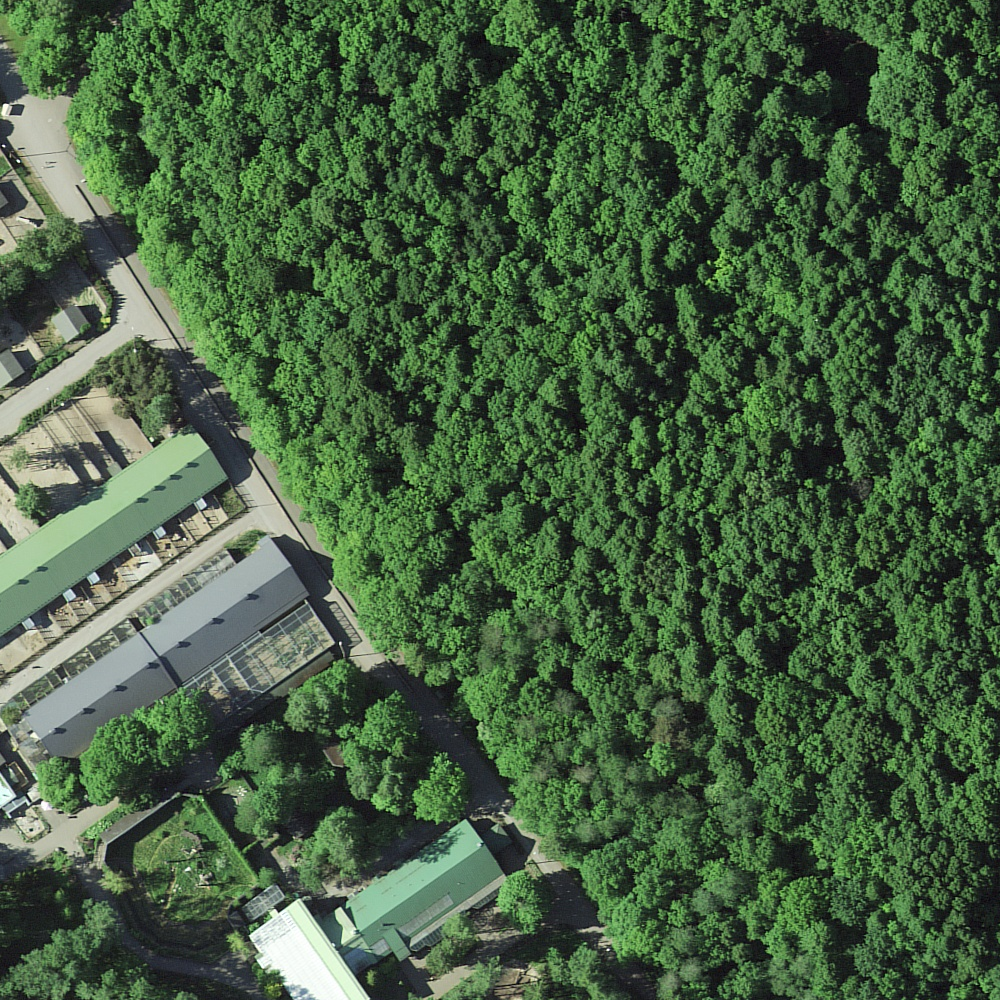building: (21, 538, 310, 767), (2, 423, 230, 632), (249, 819, 503, 998)
